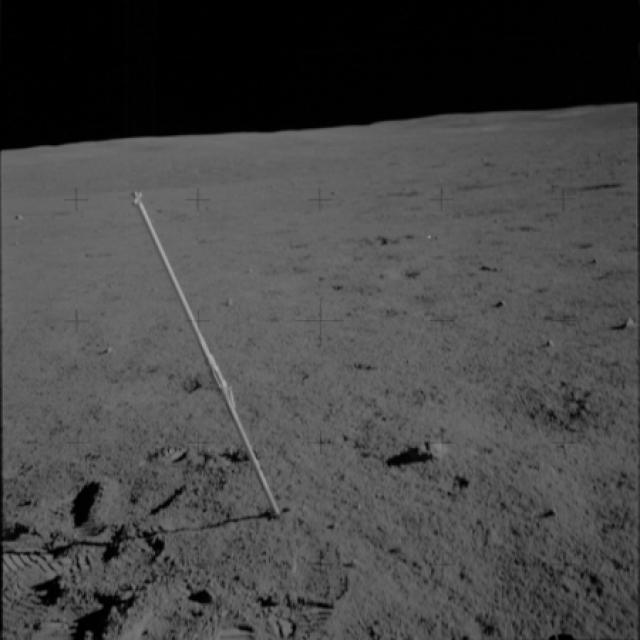crater: (417, 375, 633, 453), (118, 369, 217, 409)
rock: (402, 432, 454, 468), (615, 316, 639, 340)
